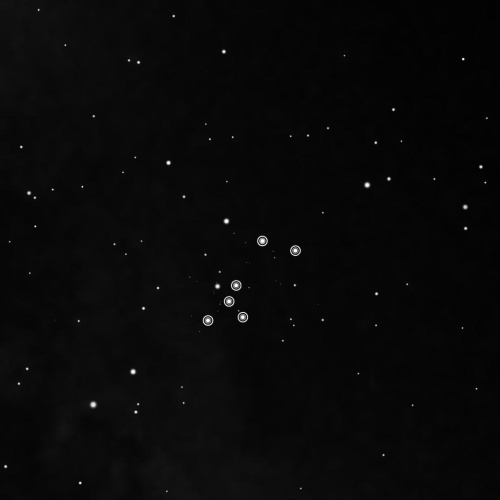canis_major: (197, 229, 307, 330)
